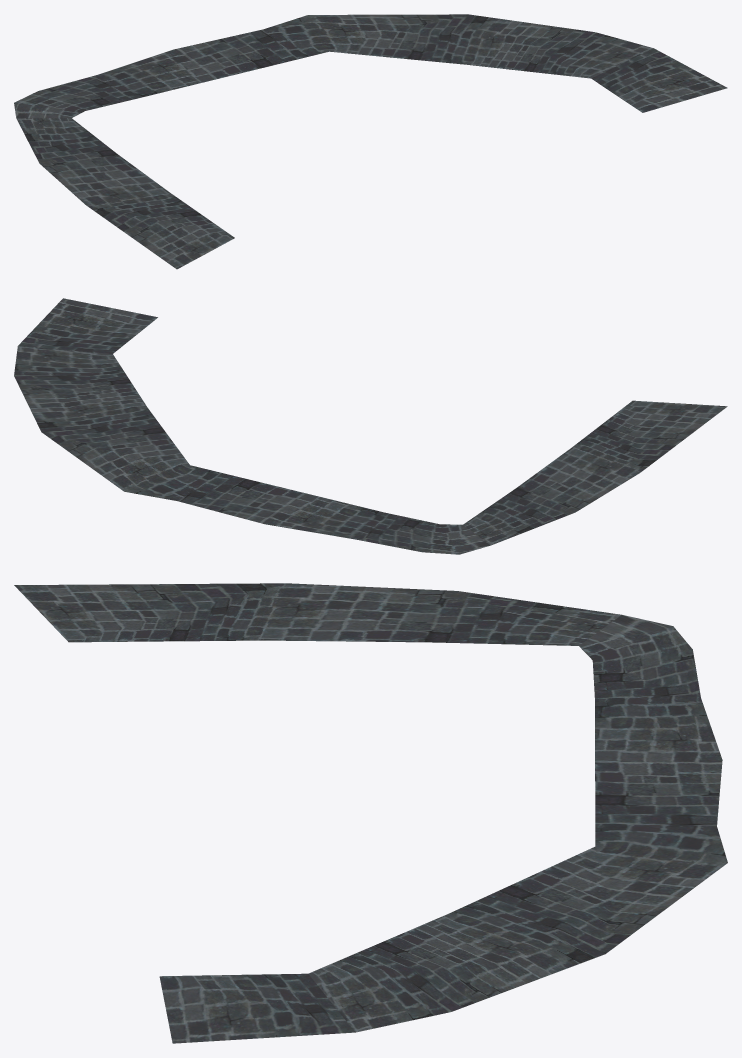
Rendered from blend_brick03.fbx.
3 renders of one model, top to bottom at view 1: azimuth 30°, elevation 25°; view 2: azimuth 150°, elevation 25°; view 3: azimuth 270°, elevation 25°, orthographic. The views are drawn at different scales.
Parts seen in each view (by area): view 1: new_stone/brick_blend_shadow; view 2: new_stone/brick_blend_shadow; view 3: new_stone/brick_blend_shadow.
Part boxes in pixels (box(x1,y1,x2,y2)): new_stone/brick_blend_shadow: box(14, 14, 727, 269); new_stone/brick_blend_shadow: box(14, 298, 727, 554); new_stone/brick_blend_shadow: box(14, 583, 727, 1043).
Bounding box in the file's own units: 16.76 × 0.0825 × 11.1.
